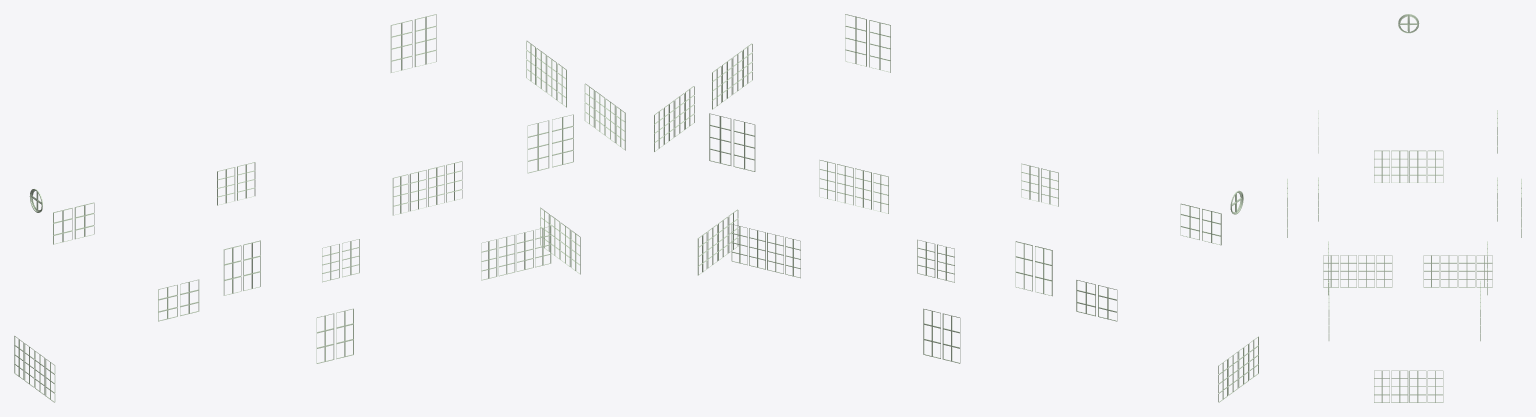
File: FairyTale190.gltf
3 views of the same model, side by side, from view 1: azimuth 30°, elevation 25°; view 2: azimuth 150°, elevation 25°; view 3: azimuth 270°, elevation 25° (orthographic). The views are drawn at different scales.
Visible parts, largest first — view 1: HouseSM01_Mullions_Wood; view 2: HouseSM01_Mullions_Wood; view 3: HouseSM01_Mullions_Wood.
Part boxes in pixels (bbox=[...]): HouseSM01_Mullions_Wood: bbox=[14, 14, 625, 402]; HouseSM01_Mullions_Wood: bbox=[654, 14, 1258, 402]; HouseSM01_Mullions_Wood: bbox=[1287, 14, 1521, 402].
Bounding box in the file's own units: 13.1 × 4.9 × 5.75.
